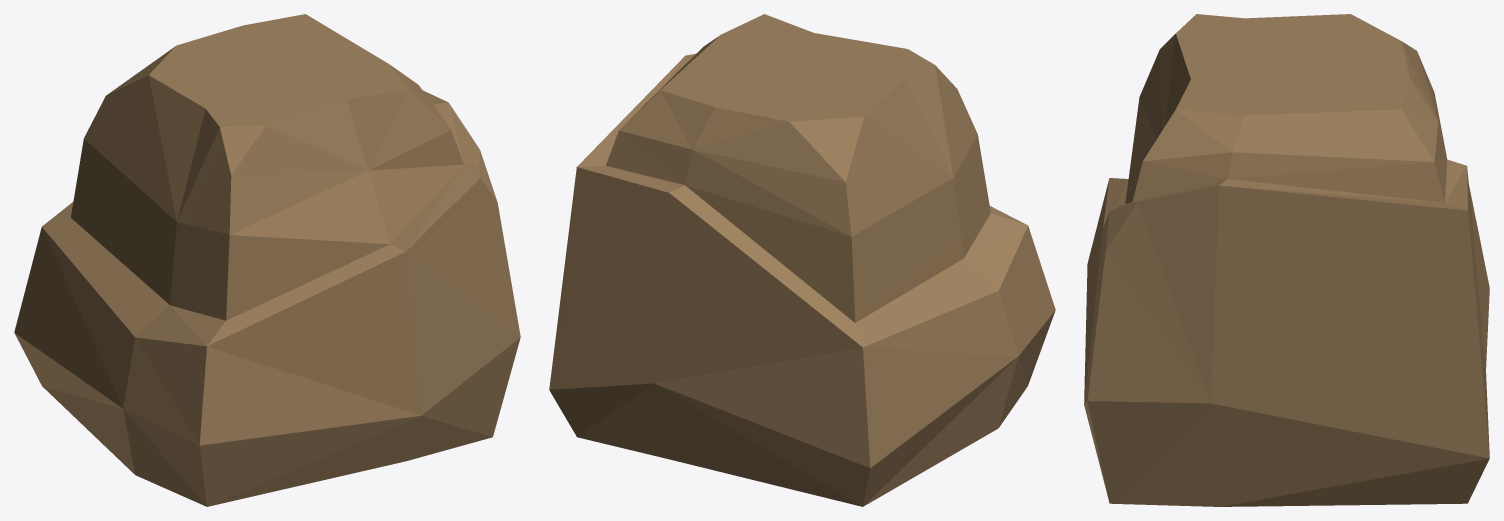
File: SM_Env_Rock_07.gltf
The picture shows the model from 3 angles, left to right: view 1: azimuth 30°, elevation 25°; view 2: azimuth 150°, elevation 25°; view 3: azimuth 270°, elevation 25°; orthographic projection. The views are drawn at different scales.
Parts seen in each view (by area): view 1: SM_Env_Rock_07; view 2: SM_Env_Rock_07; view 3: SM_Env_Rock_07.
Boxes of the visible parts, box(x1,y1,x2,y2) form: SM_Env_Rock_07: box(14, 14, 520, 506); SM_Env_Rock_07: box(549, 14, 1055, 506); SM_Env_Rock_07: box(1084, 14, 1489, 506).
Size of the model in its own units: 0.5771 by 0.5397 by 0.5417.
1 material, 1 textured.
